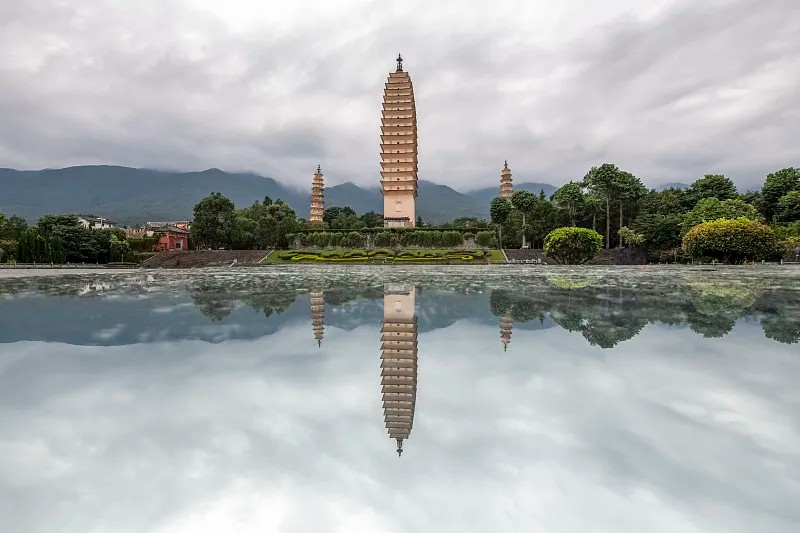ThreePagoda: (380, 53, 418, 228)
